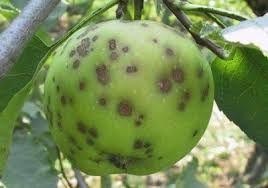Apple: (42, 22, 213, 174)
